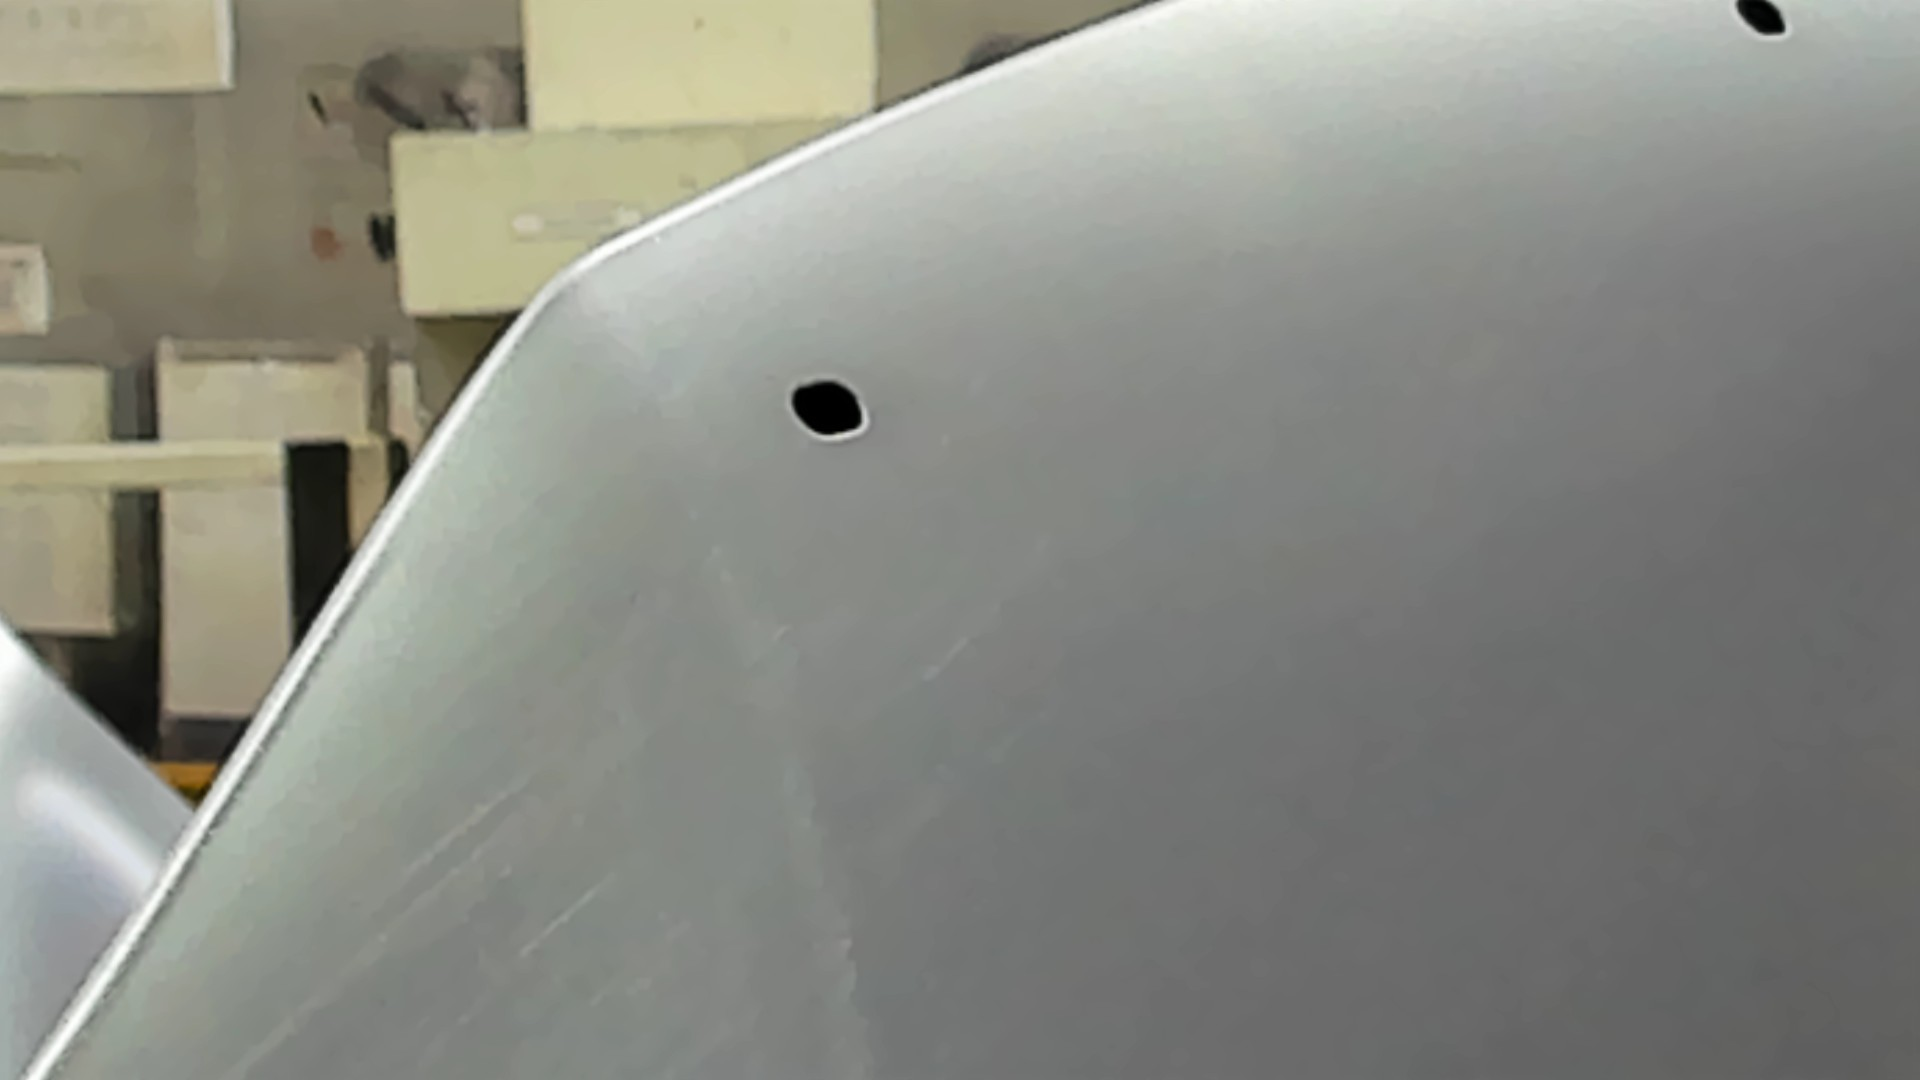amorfo: (786, 375, 870, 444), (1730, 1, 1792, 44)
capo: (926, 132, 1920, 1080)
